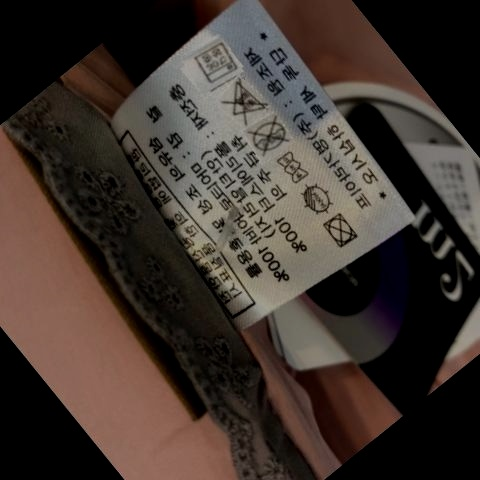30C: (190, 43, 239, 84)
DN_dry_clean: (242, 119, 291, 154)
DN_tumble_dry: (322, 213, 356, 247)
dry_flat_in_shade: (295, 179, 338, 213)
non_chlorine_bleach: (220, 83, 266, 122)
wring: (271, 150, 311, 187)
